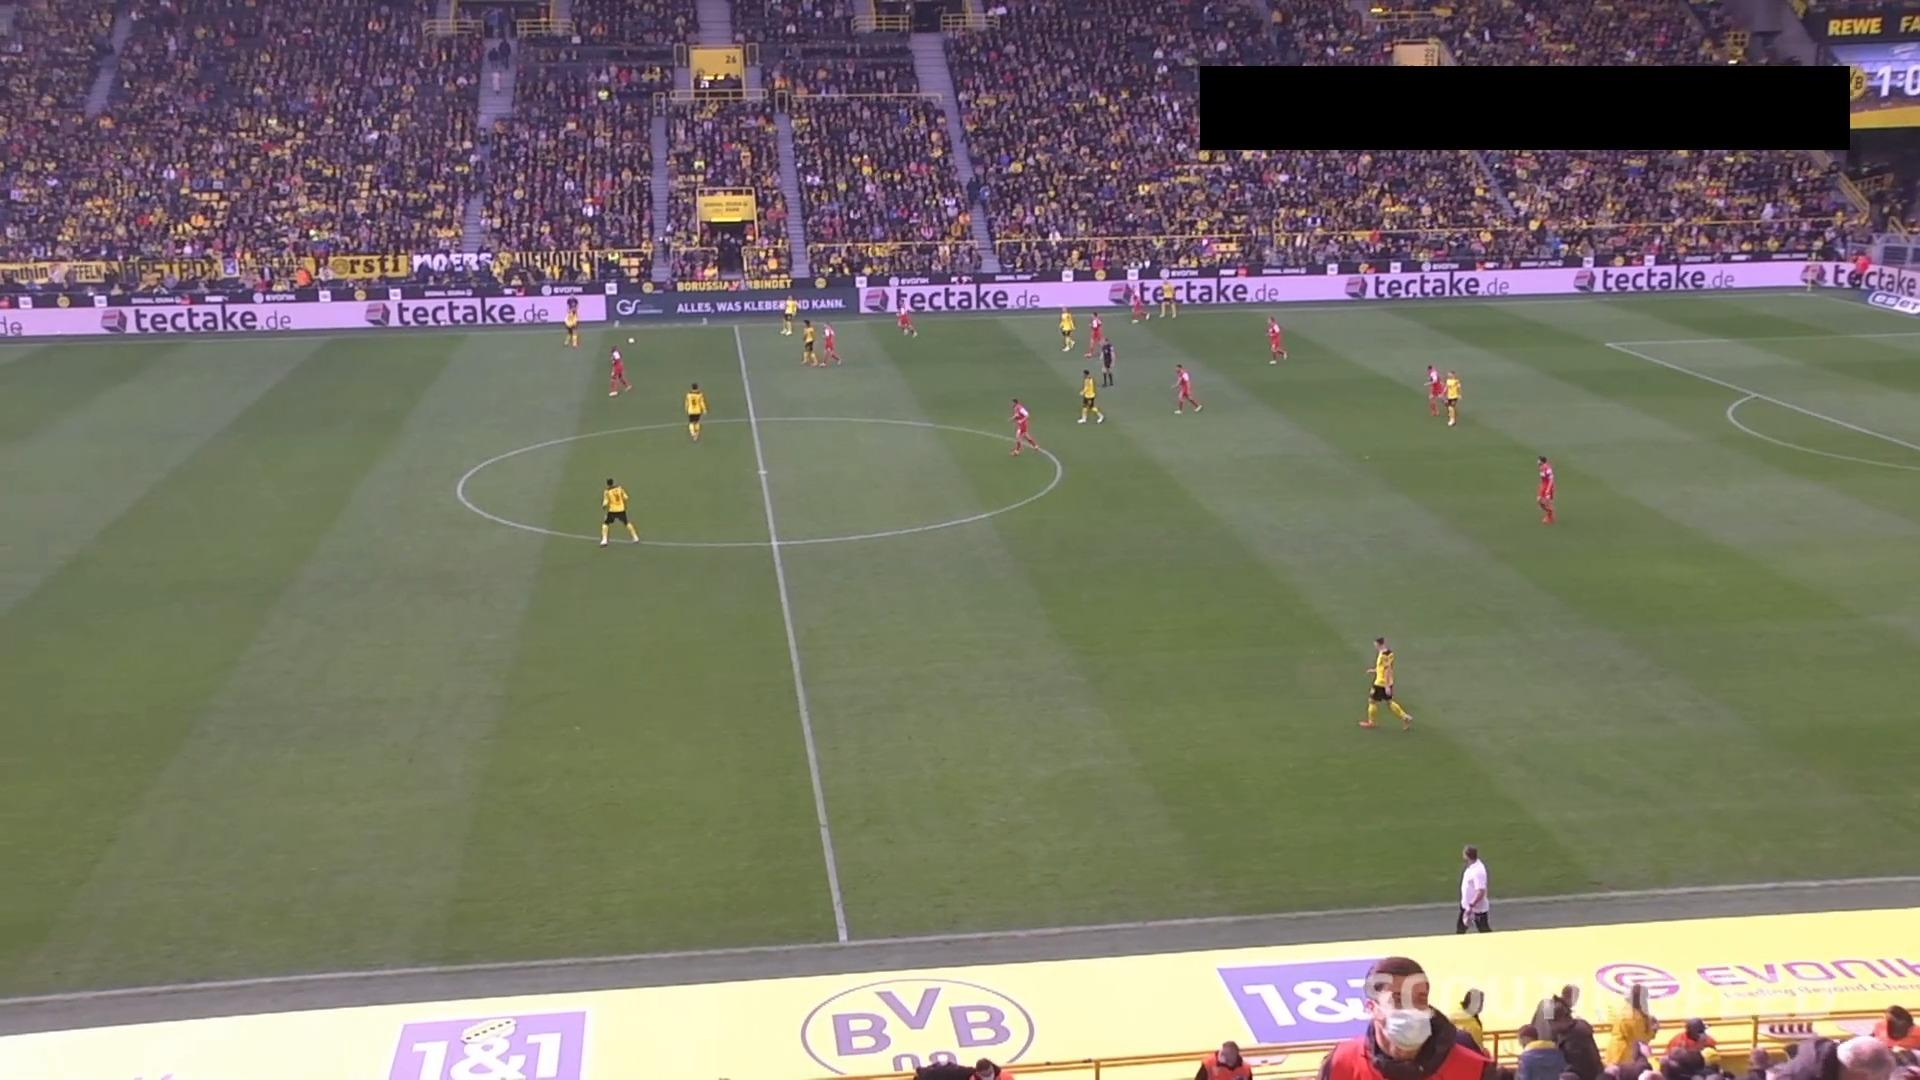ball: (626, 336, 637, 345)
